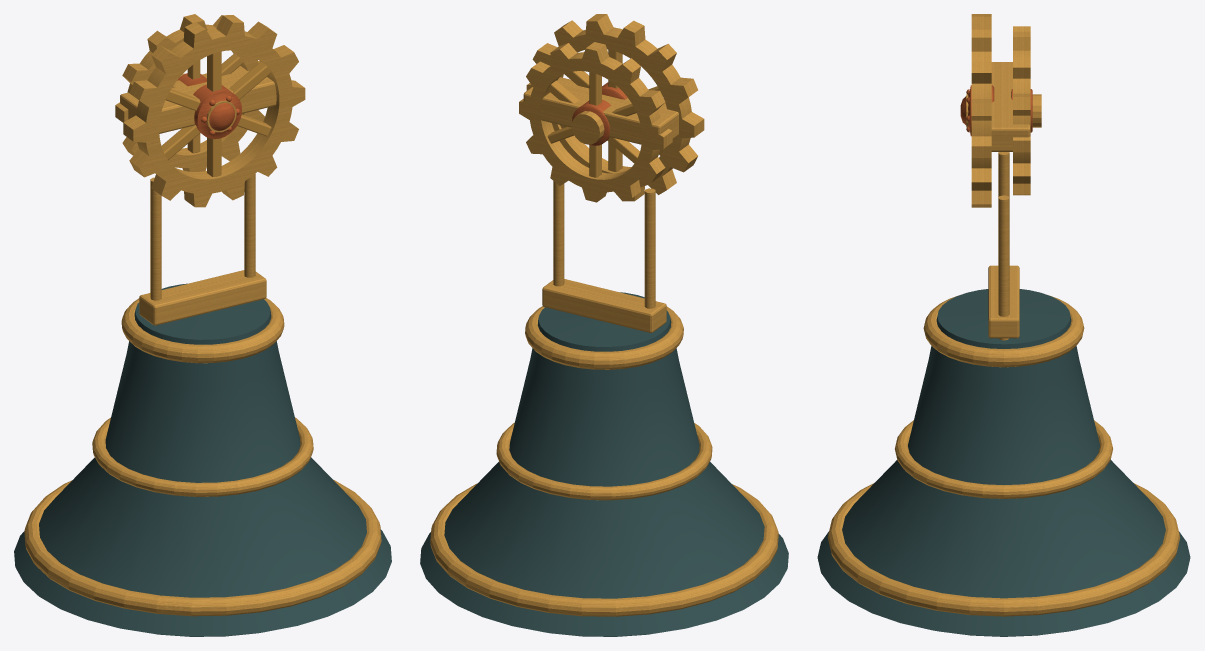
File: act3_hanging_bell.glb
3 renders of one model, left to right at view 1: azimuth 30°, elevation 25°; view 2: azimuth 150°, elevation 25°; view 3: azimuth 270°, elevation 25°, orthographic. The views are drawn at different scales.
Visible parts, largest first — view 1: ANIM_Act3_BellBody_Mesh, SM_Act3_ArchTopGearF_Mesh, SM_Act3_ArchTopGearB_Mesh, SM_Act3_BellPulley; view 2: ANIM_Act3_BellBody_Mesh, SM_Act3_ArchTopGearB_Mesh, SM_Act3_ArchTopGearF_Mesh, SM_Act3_BellPulley; view 3: ANIM_Act3_BellBody_Mesh, SM_Act3_ArchTopGearF_Mesh, SM_Act3_ArchTopGearB_Mesh, SM_Act3_BellPulley.
Part boxes in pixels (left/top/right/bottom): ANIM_Act3_BellBody_Mesh: left=14, top=173, right=391, bottom=636; SM_Act3_ArchTopGearF_Mesh: left=123, top=15, right=305, bottom=207; SM_Act3_ArchTopGearB_Mesh: left=115, top=14, right=264, bottom=171; SM_Act3_BellPulley: left=120, top=61, right=276, bottom=133; ANIM_Act3_BellBody_Mesh: left=420, top=181, right=788, bottom=636; SM_Act3_ArchTopGearB_Mesh: left=519, top=42, right=672, bottom=202; SM_Act3_ArchTopGearF_Mesh: left=526, top=14, right=704, bottom=201; SM_Act3_BellPulley: left=523, top=77, right=678, bottom=144; ANIM_Act3_BellBody_Mesh: left=817, top=152, right=1190, bottom=636; SM_Act3_ArchTopGearF_Mesh: left=960, top=14, right=994, bottom=207; SM_Act3_ArchTopGearB_Mesh: left=1011, top=26, right=1032, bottom=195; SM_Act3_BellPulley: left=966, top=62, right=1041, bottom=151.
Size of the model in its own units: 1.68 by 2.78 by 1.68.
Materials: 3 (3 with a texture image).
